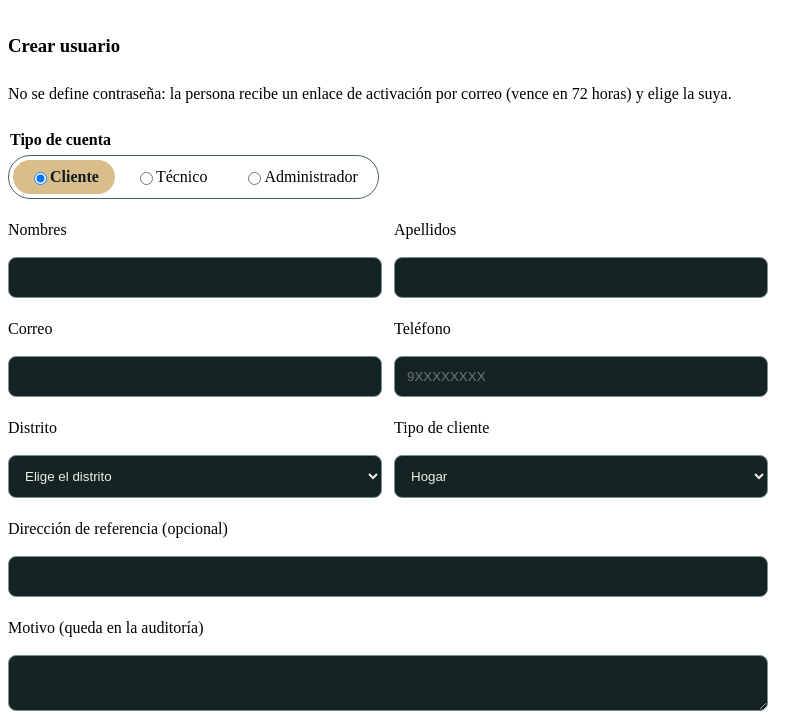
Test case: S07-TC-135 el alta muestra los errores del servidor por campo y conserva el formulario
Expected: the heading "Crear usuario" is shown, [8,35,120,56]
Type "Rosa" into the field labelled "Nombres" at (195, 278), box [8,257,382,298]
Type "Huamán" into the field labelled "Apellidos" at (581, 278), box [394,257,768,298]
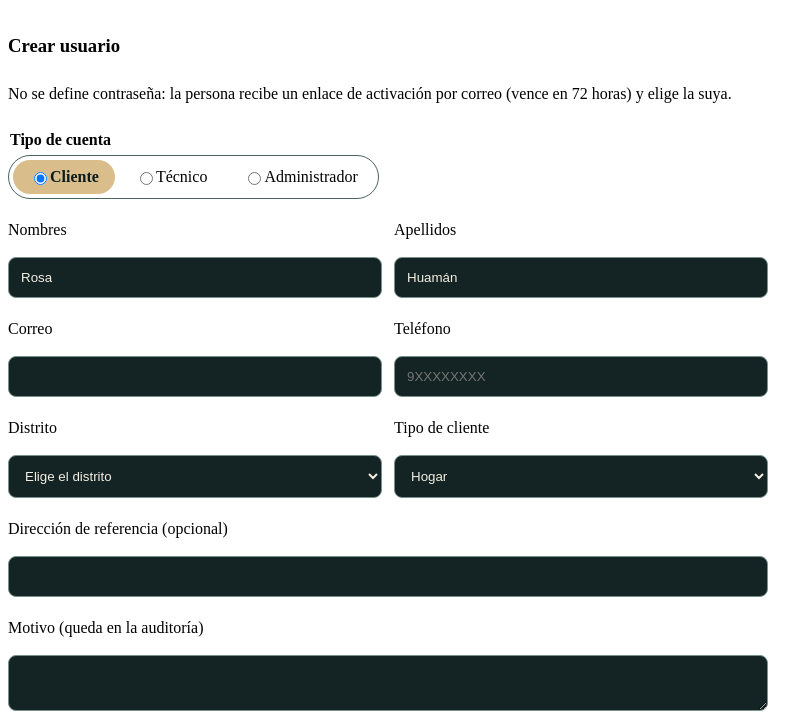
Type "rosa@example.test" into the field labelled "Correo" at (195, 376), box [8,356,382,397]
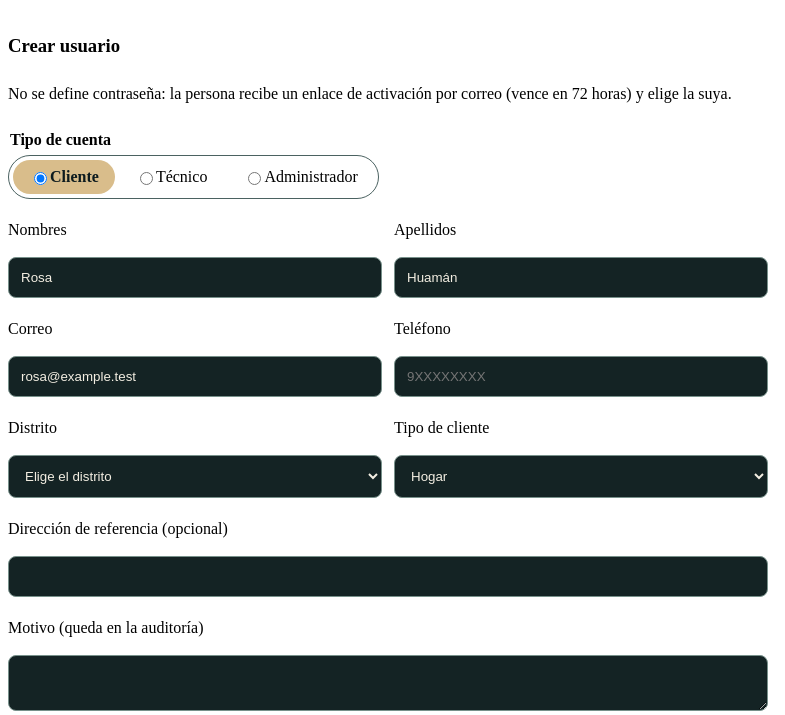
Type "987654321" into the field labelled "Teléfono" at (581, 376), box [394,356,768,397]
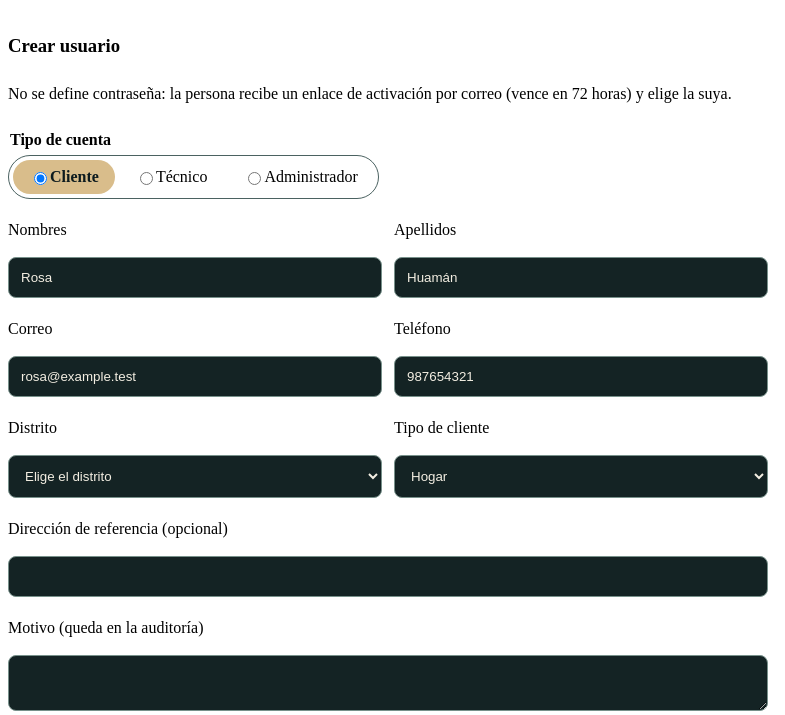
Select "Huancayo" in the dropdown labelled "Distrito" at (195, 476), box [8,455,382,498]
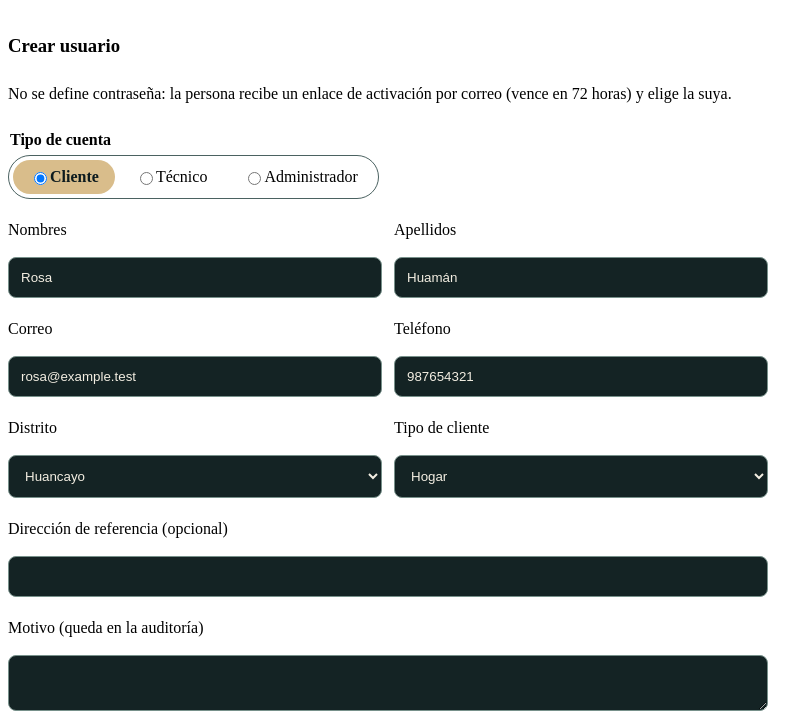
Type "Alta por soporte." into the text box labelled "Motivo (queda en la auditoría)" at (388, 683), box [8,655,768,711]
(page scrolled)
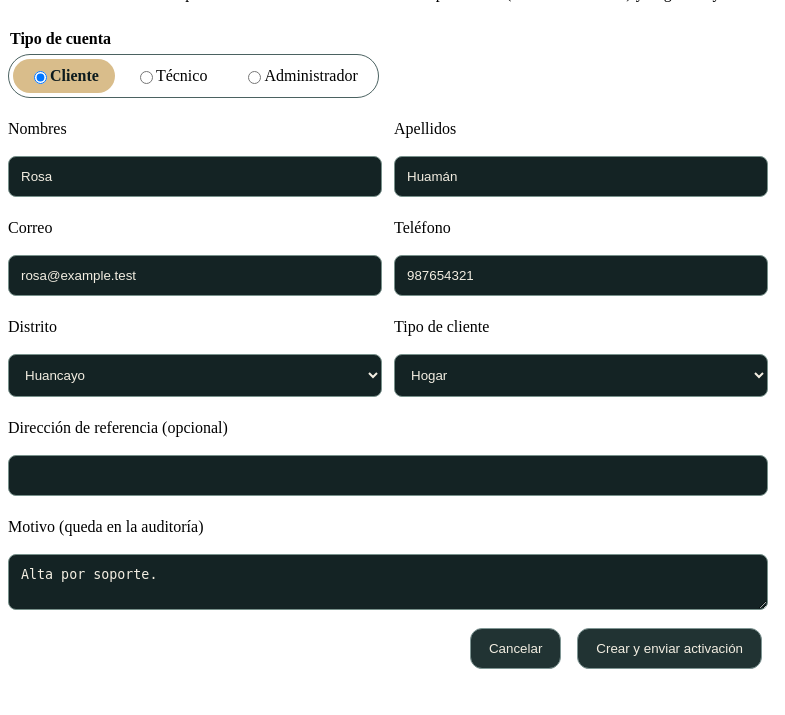
Click the button "Crear y enviar activación" at (670, 648), box [577,628,762,669]
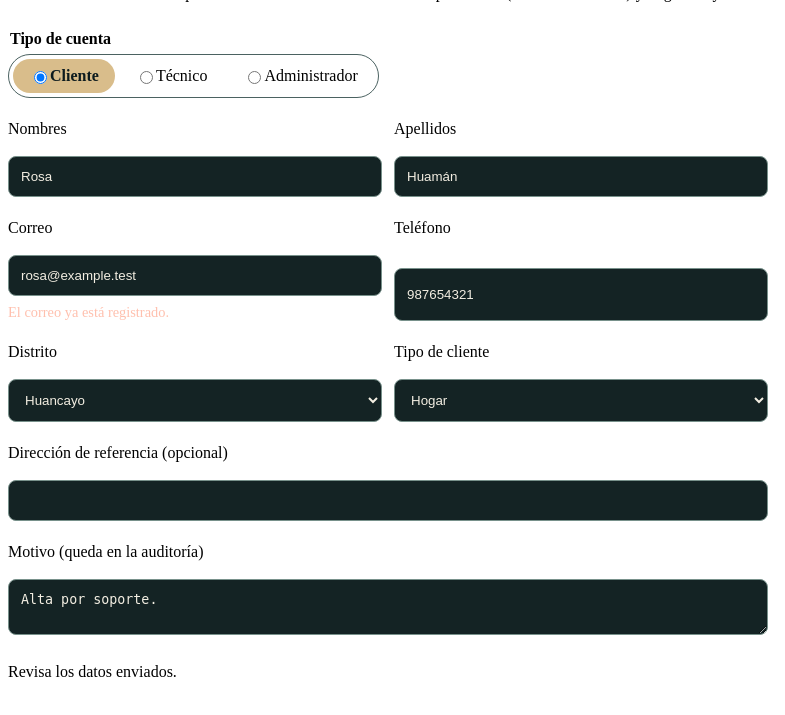
Result: the text "El correo ya está registrado." is shown at [8,304,169,320]
Result: the message reads "Revisa los datos enviados." at [8,663,177,680]
